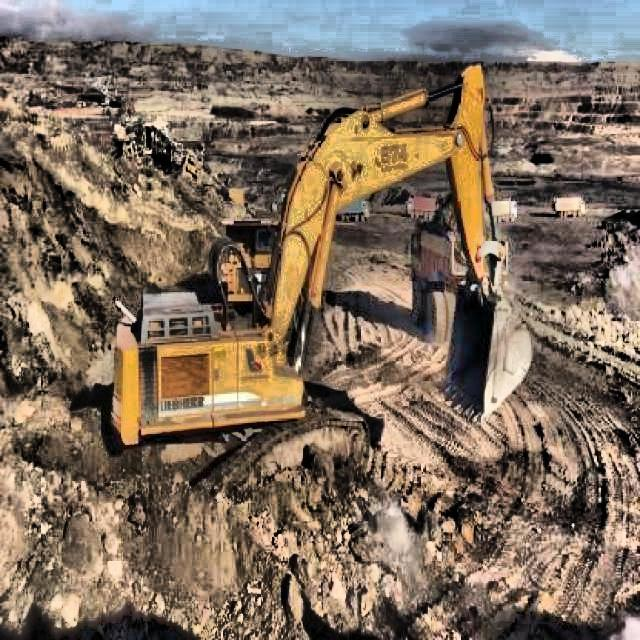dump_truck: (402, 191, 436, 217), (552, 194, 586, 218), (342, 197, 369, 220), (496, 200, 518, 222)
excavator: (90, 60, 536, 506)
